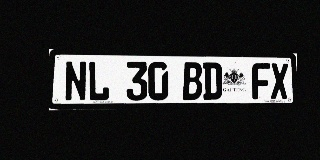0: (148, 62, 168, 100)
3: (126, 61, 147, 101)
B: (183, 62, 202, 100)
D: (203, 62, 222, 100)
F: (252, 63, 270, 99)
L: (88, 61, 109, 101)
N: (64, 61, 87, 101)
X: (271, 63, 288, 99)
